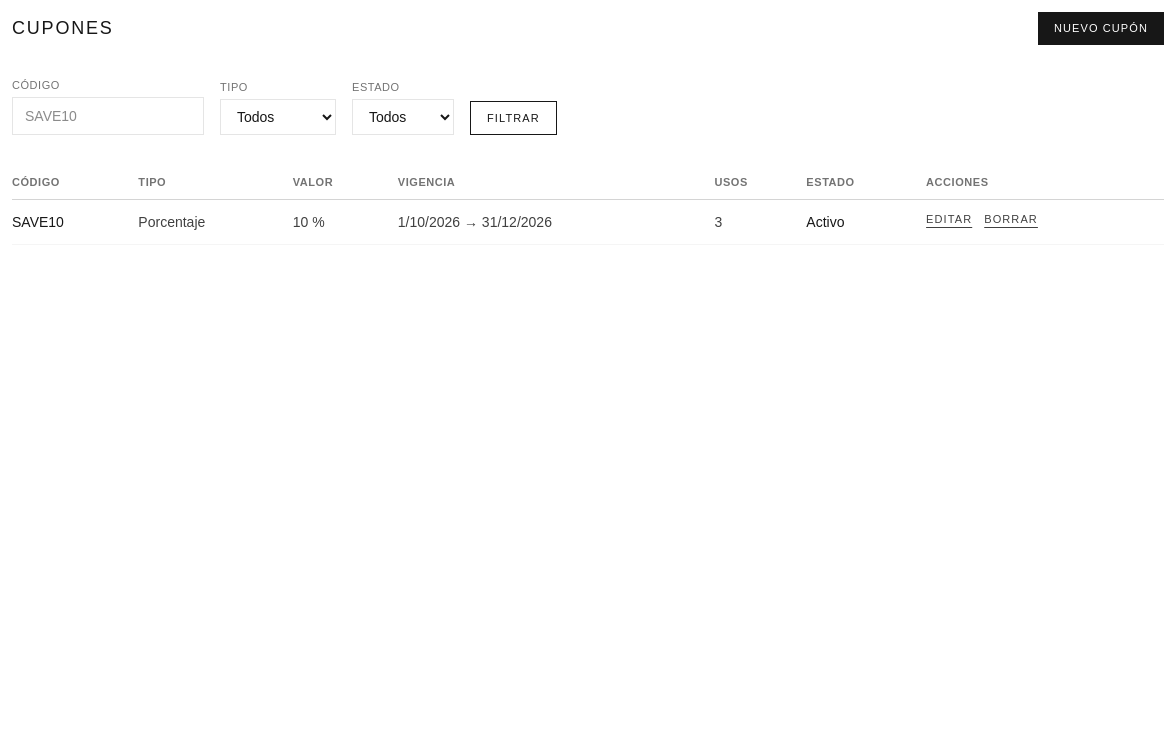
Test: AdminCouponsPage › editar: el código aparece deshabilitado (inmutable, §2.2)
This screenshot has width=1176, height=732.
Expected: the text "SAVE10" is shown, top-left (12, 199), bottom-right (138, 244)
Click the button "Editar" at point(949, 220), box top-left (926, 212), bottom-right (972, 227)
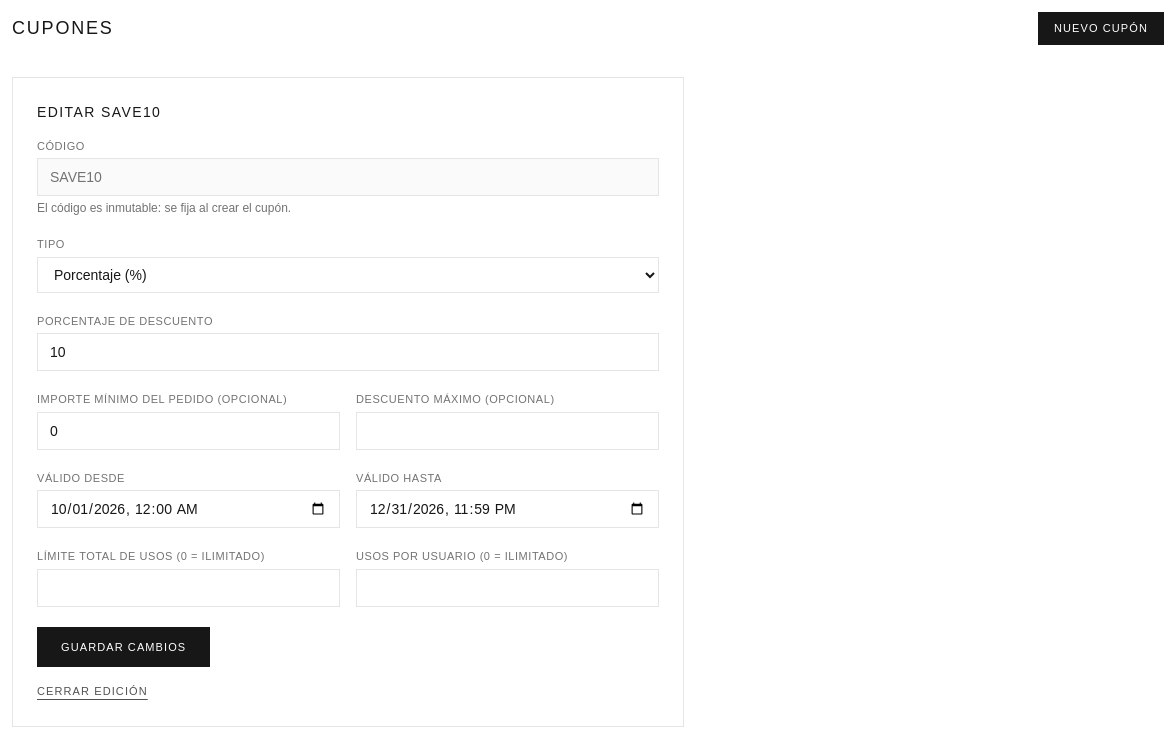
Expected: the field labelled "Código" is disabled, top-left (37, 158), bottom-right (659, 196)
Expected: the text "El código es inmutable: se fija al crear el cupón." is shown, top-left (37, 201), bottom-right (291, 215)
